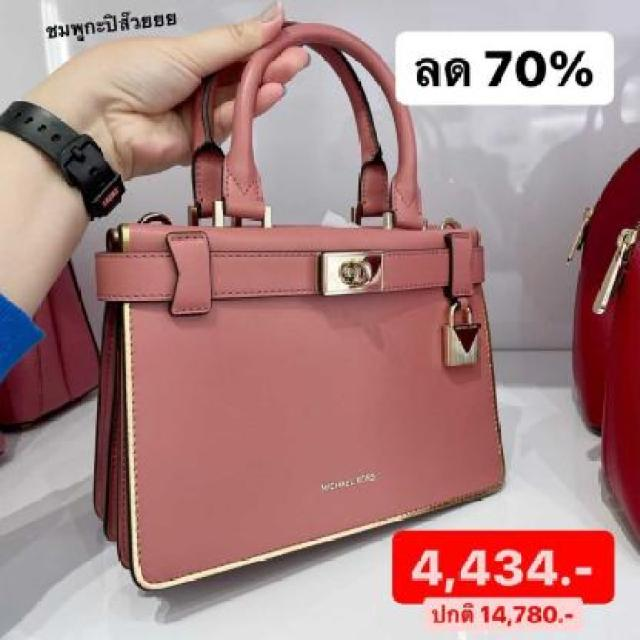Bag: (76, 10, 552, 612)
